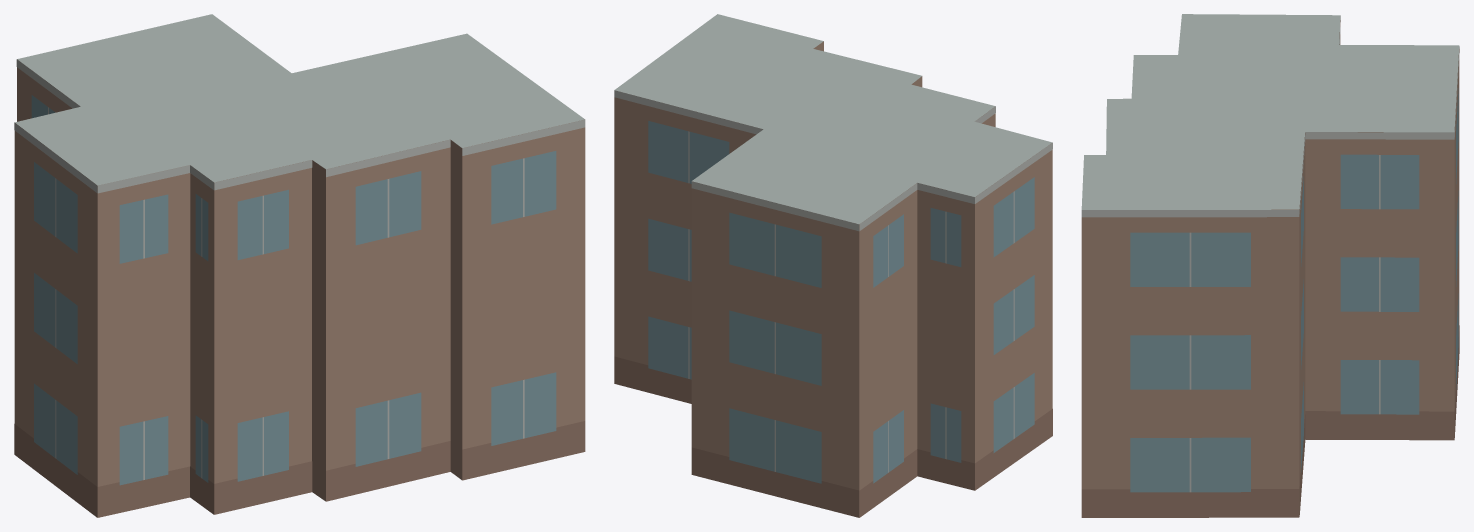
The model's file is survey-upis-32951113.glb.
3 renders of one model, left to right at view 1: azimuth 30°, elevation 25°; view 2: azimuth 150°, elevation 25°; view 3: azimuth 270°, elevation 25°, orthographic. The views are drawn at different scales.
Visible parts, largest first — view 1: survey-upis-32951113.tmp; view 2: survey-upis-32951113.tmp; view 3: survey-upis-32951113.tmp.
Boxes of the visible parts, x1=… form: survey-upis-32951113.tmp: x1=14, y1=14, x2=585, y2=517; survey-upis-32951113.tmp: x1=614, y1=14, x2=1052, y2=517; survey-upis-32951113.tmp: x1=1081, y1=14, x2=1459, y2=517.
Bounding box in the file's own units: 13.94 × 10.2 × 11.35.
